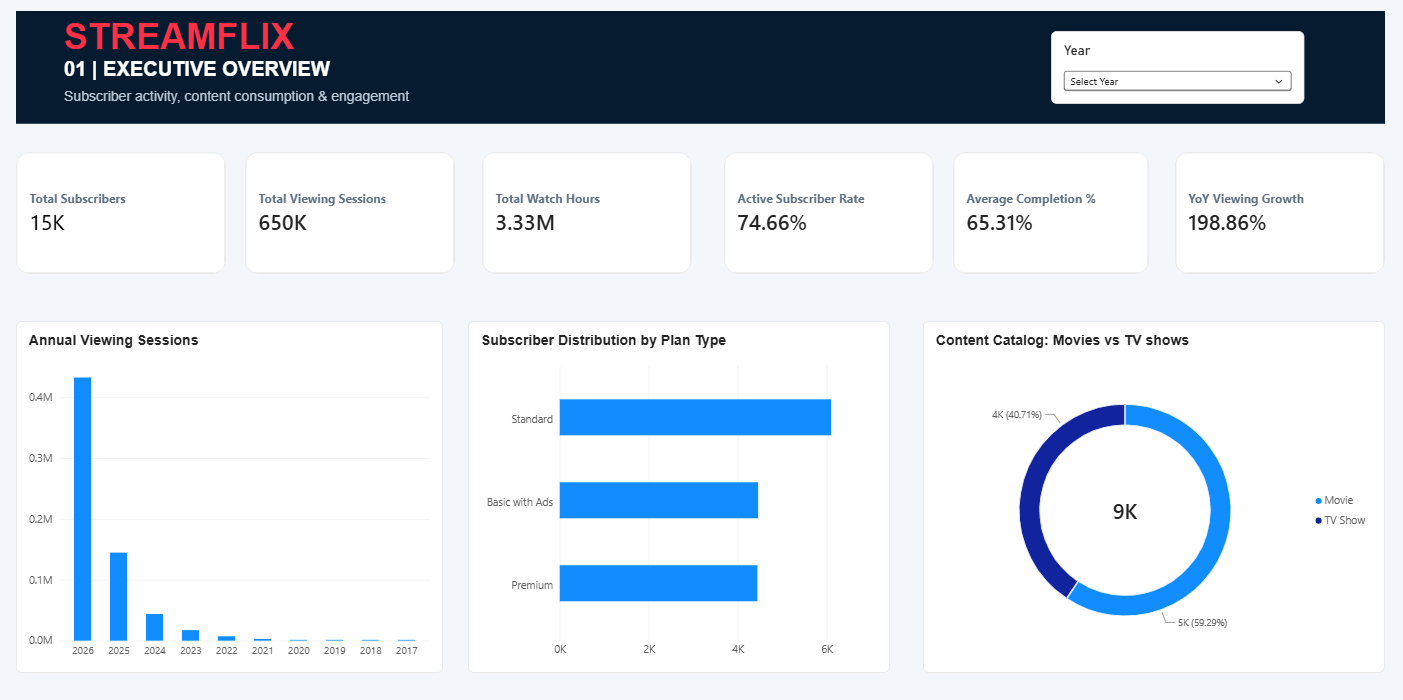

Layout of this report page (visuals, bound fields, positions):
{"tool":"powerbi","page":{"name":"01 Executive Overview","canvas":[1920,1080],"ordinal":0},"visuals":[{"type":"clusteredColumnChart","title":"Annual Viewing Sessions ","fields":{"Category":["Date_Table.Year"],"Y":["_Measures.Total Viewing Sessions"]},"box":[61.2,440.2,567.9,468.2],"z":1000},{"type":"clusteredBarChart","title":"Subscriber Distribution by Plan Type","fields":{"Category":["subscribers.plan_type"],"Y":["_Measures.Total Subscribers"]},"box":[662.4,440.2,561.3,468.2],"z":2000},{"type":"donutChart","title":"Content Catalog: Movies vs TV shows","fields":{"Category":["titles.type"],"Y":["_Measures.Total Titles"]},"box":[1267.5,440.2,614.5,468.2],"z":3000},{"type":"shape","box":[61.2,27.9,1820.8,150.3],"z":4000},{"type":"listSlicer","fields":{"Values":["Date_Table.Year"]},"box":[1437.9,54.1,337.1,97.1],"z":5000},{"type":"textbox","box":[125,34.6,356.5,67.8],"z":6000},{"type":"textbox","box":[125,90.4,504,150],"z":7000},{"type":"textbox","box":[125,130.3,504,150],"z":8000},{"type":"cardVisual","fields":{"Data":["_Measures.Total Subscribers"]},"box":[61.2,215.5,279,162.3],"z":9001},{"type":"cardVisual","fields":{"Data":["_Measures.Total Viewing Sessions"]},"box":[365.8,215.5,279,162.3],"z":9002},{"type":"cardVisual","fields":{"Data":["_Measures.Total Watch Hours"]},"box":[681,215.5,279,162],"z":9003},{"type":"cardVisual","fields":{"Data":["_Measures.Active Subscriber Rate"]},"box":[1002.9,215.5,279,162.3],"z":9004},{"type":"cardVisual","fields":{"Data":["_Measures.Average Completion %"]},"box":[1307.4,215.5,260.7,162.3],"z":9005},{"type":"cardVisual","fields":{"Data":["_Measures.Viewing Sessions YoY Growth %"]},"box":[1602.7,215.5,279,162],"z":9006}]}

Visuals, with their boxes on the page's 1920x1080 design canvas (x1, y1, x2, y2). These are canvas units, not pixel positions in the 1403x700 screenshot, which may show the page scaled, cropped or inside an application window:
"Annual Viewing Sessions " clusteredColumnChart: bbox=(61, 440, 629, 908)
"Subscriber Distribution by Plan Type" clusteredBarChart: bbox=(662, 440, 1224, 908)
"Content Catalog: Movies vs TV shows" donutChart: bbox=(1268, 440, 1882, 908)
shape: bbox=(61, 28, 1882, 178)
listSlicer - Date_Table.Year: bbox=(1438, 54, 1775, 151)
textbox: bbox=(125, 35, 482, 102)
textbox: bbox=(125, 90, 629, 240)
textbox: bbox=(125, 130, 629, 280)
cardVisual - _Measures.Total Subscribers: bbox=(61, 216, 340, 378)
cardVisual - _Measures.Total Viewing Sessions: bbox=(366, 216, 645, 378)
cardVisual - _Measures.Total Watch Hours: bbox=(681, 216, 960, 378)
cardVisual - _Measures.Active Subscriber Rate: bbox=(1003, 216, 1282, 378)
cardVisual - _Measures.Average Completion %: bbox=(1307, 216, 1568, 378)
cardVisual - _Measures.Viewing Sessions YoY Growth %: bbox=(1603, 216, 1882, 378)
